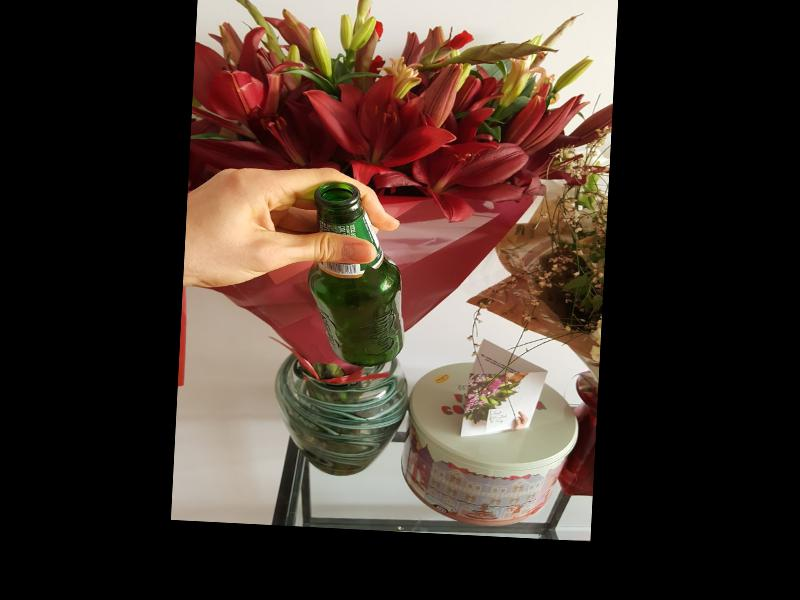Beer: (304, 181, 412, 367)
